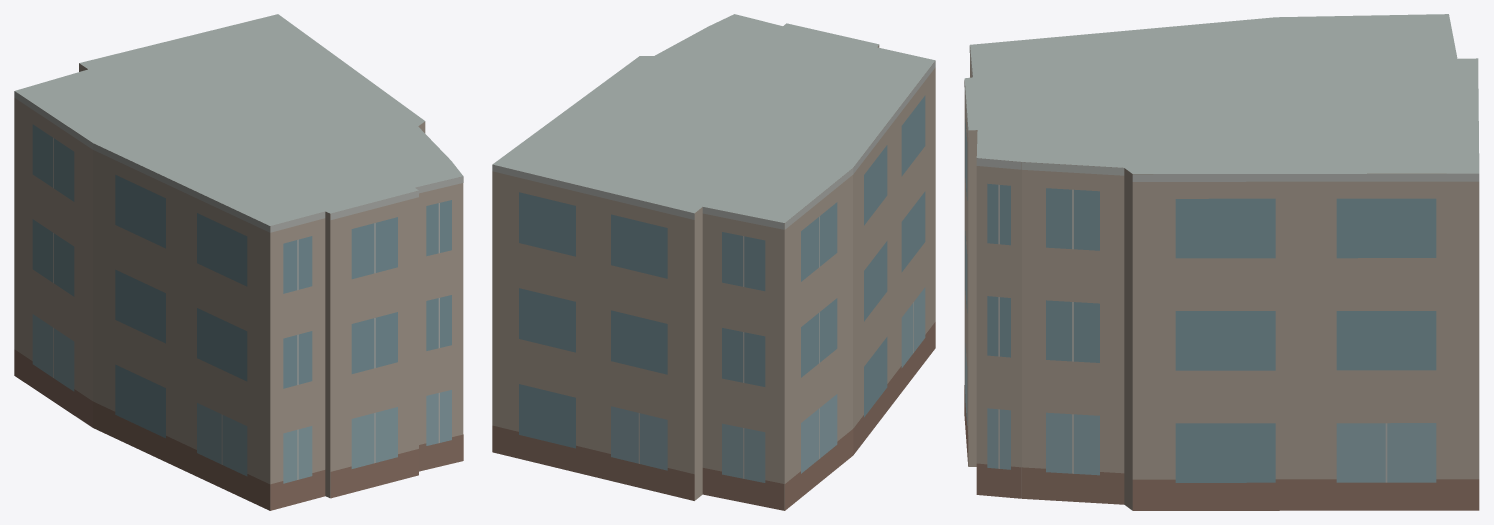
The model's file is survey-upis-32681740.glb.
3 views of the same model, side by side, from view 1: azimuth 30°, elevation 25°; view 2: azimuth 150°, elevation 25°; view 3: azimuth 270°, elevation 25° (orthographic). The views are drawn at different scales.
Visible parts, largest first — view 1: survey-upis-32681740.tmp; view 2: survey-upis-32681740.tmp; view 3: survey-upis-32681740.tmp.
Boxes of the visible parts, box(x1,y1,x2,y2) form: survey-upis-32681740.tmp: box(14, 14, 463, 510); survey-upis-32681740.tmp: box(492, 14, 935, 510); survey-upis-32681740.tmp: box(964, 14, 1479, 510).
Bounding box in the file's own units: 10.61 × 10.4 × 14.42.
